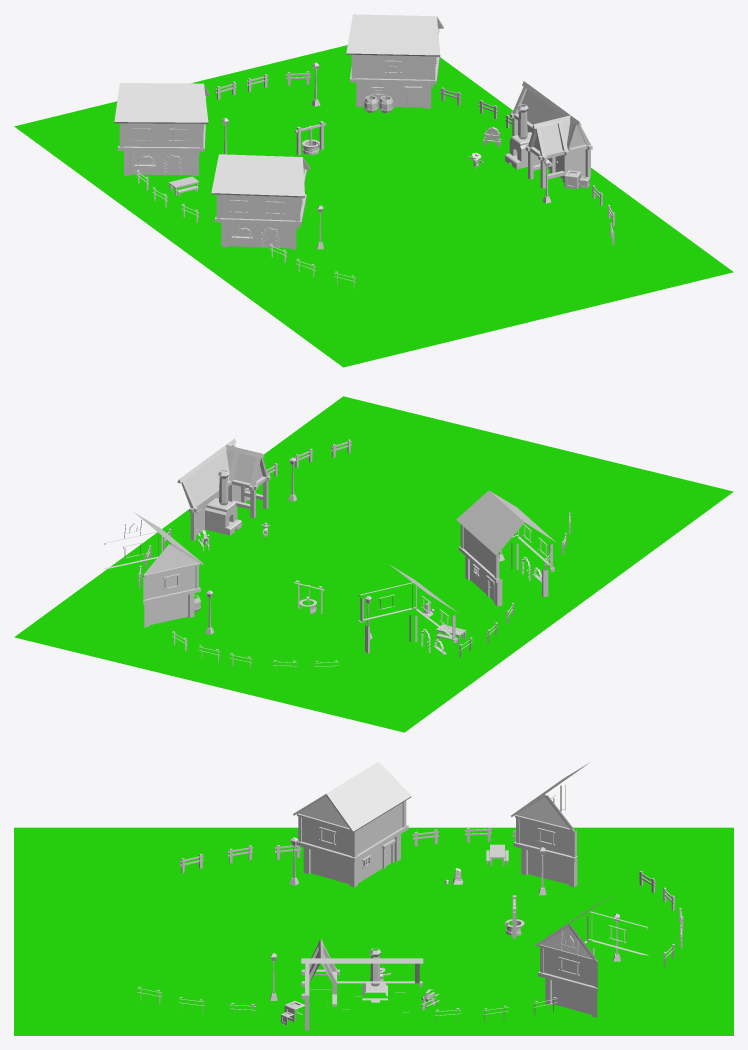
Rendered from land.glb.
3 renders of one model, top to bottom at view 1: azimuth 30°, elevation 25°; view 2: azimuth 150°, elevation 25°; view 3: azimuth 270°, elevation 25°, orthographic. The views are drawn at different scales.
Parts seen in each view (by area): view 1: Ground, Merge; view 2: Ground, Merge; view 3: Ground, Merge.
Boxes of the visible parts, x1,y1,x2,y2 form: Ground: (14, 45, 733, 367); Merge: (114, 14, 614, 288); Ground: (14, 396, 733, 732); Merge: (104, 438, 570, 673); Ground: (14, 827, 733, 1035); Merge: (137, 762, 683, 1030).
Size of the model in its own units: 32.64 by 6.5 by 47.66.
